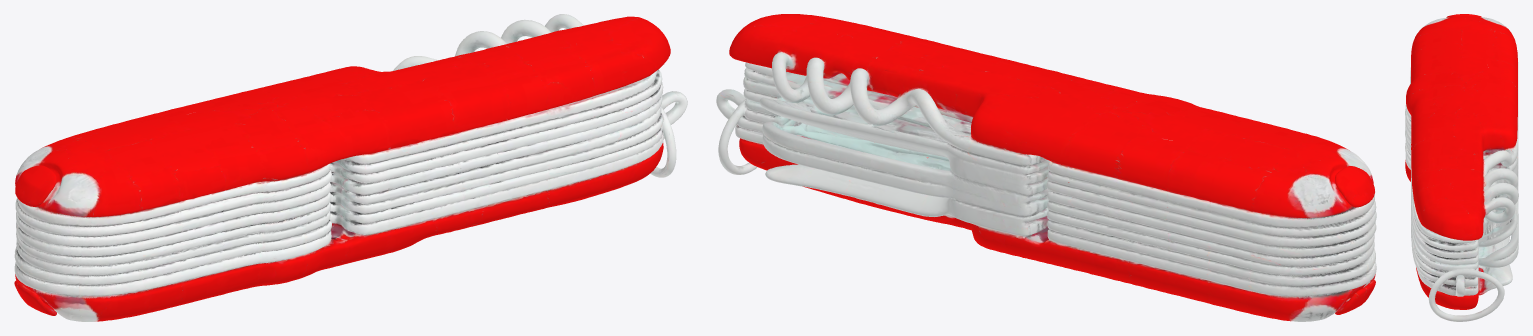
The model's file is swiss_army_knife.glb.
3 renders of one model, left to right at view 1: azimuth 30°, elevation 25°; view 2: azimuth 150°, elevation 25°; view 3: azimuth 270°, elevation 25°, orthographic. The views are drawn at different scales.
Size of the model in its own units: 1.9 by 0.4241 by 0.4054.
1 material, 1 textured.
